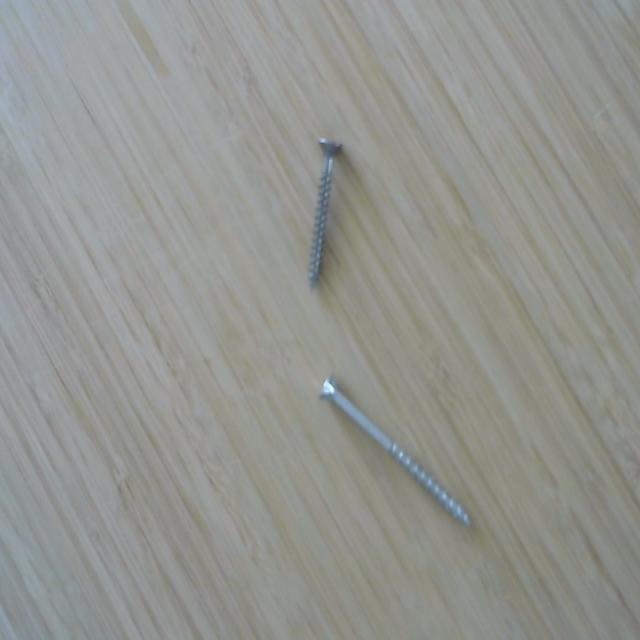Black screw: (299, 130, 348, 292)
Long screw: (314, 369, 476, 535)
